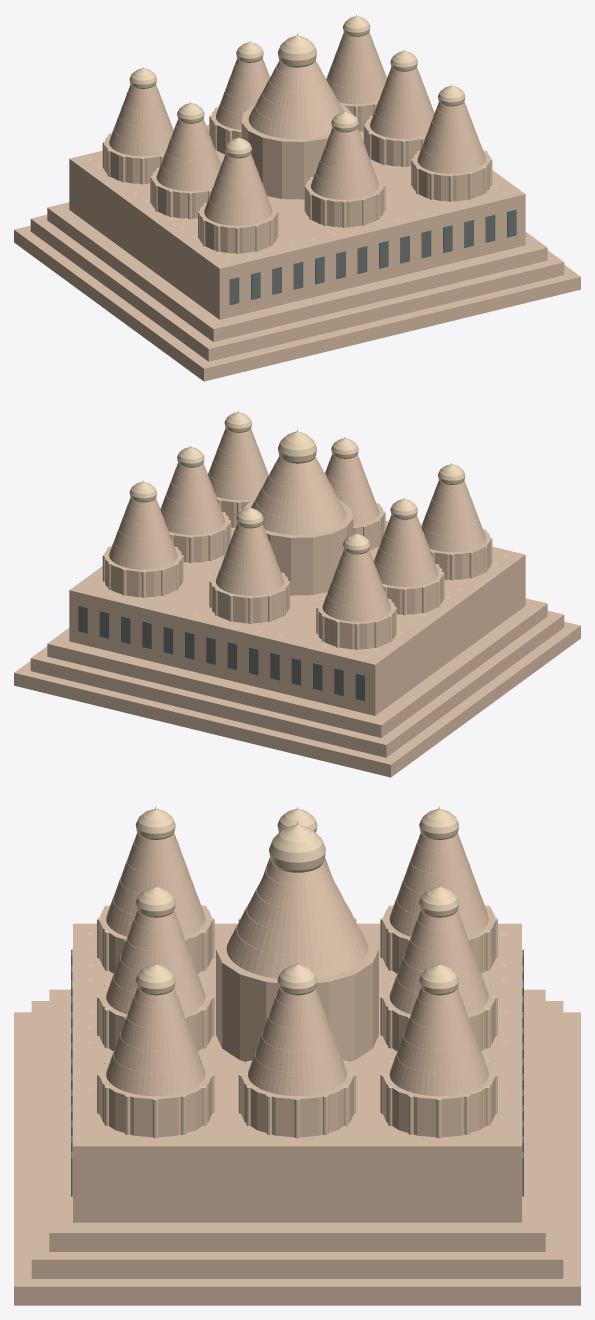
The model's file is akshardham.glb.
3 views of the same model, one above another, from view 1: azimuth 30°, elevation 25°; view 2: azimuth 150°, elevation 25°; view 3: azimuth 270°, elevation 25° (orthographic). The views are drawn at different scales.
Visible parts, largest first — view 1: NCR_akshardham; view 2: NCR_akshardham; view 3: NCR_akshardham.
Boxes of the visible parts, x1,y1,x2,y2 form: NCR_akshardham: [14, 15, 580, 381]; NCR_akshardham: [14, 411, 580, 777]; NCR_akshardham: [14, 806, 580, 1305].
Bounding box in the file's own units: 72.7 × 43.07 × 63.49.
